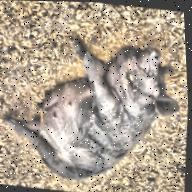boar: (0, 28, 190, 192)
